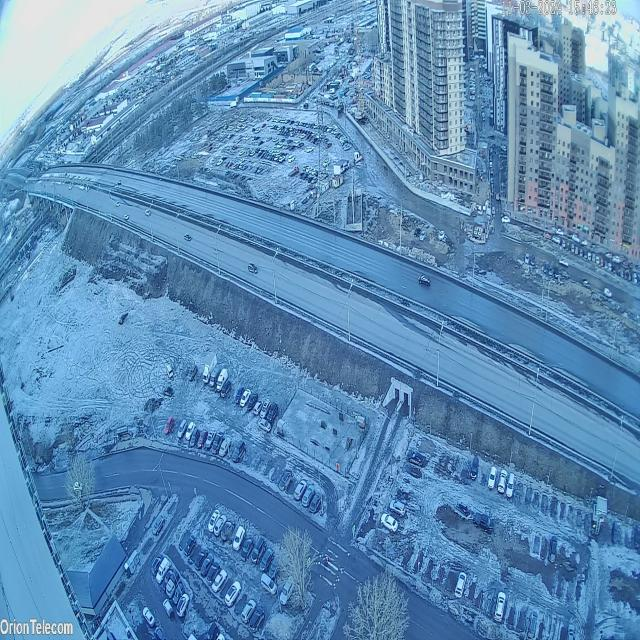car: (202, 349, 218, 387), (279, 574, 296, 606), (240, 532, 256, 566), (453, 567, 468, 603), (251, 535, 267, 568), (154, 557, 172, 586), (225, 579, 241, 611), (249, 603, 265, 634), (258, 545, 275, 574), (240, 596, 256, 626), (260, 572, 278, 598), (165, 571, 181, 600), (473, 515, 495, 536), (308, 490, 325, 517), (220, 514, 236, 542), (268, 552, 282, 583), (380, 512, 398, 536), (494, 591, 507, 624), (212, 567, 227, 595), (232, 524, 246, 553), (231, 439, 246, 466), (213, 511, 227, 539), (161, 567, 175, 595), (207, 558, 220, 588), (177, 591, 190, 621), (208, 364, 222, 391), (301, 483, 315, 510), (200, 551, 214, 578), (194, 545, 208, 572), (183, 530, 196, 559), (207, 508, 221, 534), (389, 498, 406, 519), (216, 368, 229, 395), (526, 612, 539, 639), (279, 469, 293, 494), (151, 552, 164, 578), (172, 582, 185, 608), (152, 514, 166, 538), (176, 416, 188, 443), (218, 436, 232, 459), (548, 534, 558, 566), (212, 431, 224, 457), (497, 468, 508, 496), (266, 400, 278, 425), (506, 471, 516, 501), (205, 620, 220, 640), (293, 481, 307, 502), (408, 451, 424, 469), (239, 388, 252, 410), (142, 606, 155, 628), (487, 463, 497, 491), (205, 428, 218, 449), (163, 414, 174, 438), (162, 598, 174, 620), (189, 427, 200, 450), (470, 455, 479, 482), (185, 422, 196, 444), (260, 399, 271, 421), (247, 392, 259, 412), (197, 429, 208, 450), (258, 418, 272, 434), (611, 519, 619, 547), (234, 386, 244, 407), (253, 398, 264, 417), (418, 273, 431, 289), (188, 361, 197, 384), (567, 621, 576, 640), (634, 526, 640, 552), (163, 386, 174, 400), (247, 262, 258, 276), (154, 627, 165, 640), (166, 363, 173, 380), (183, 232, 192, 244)
